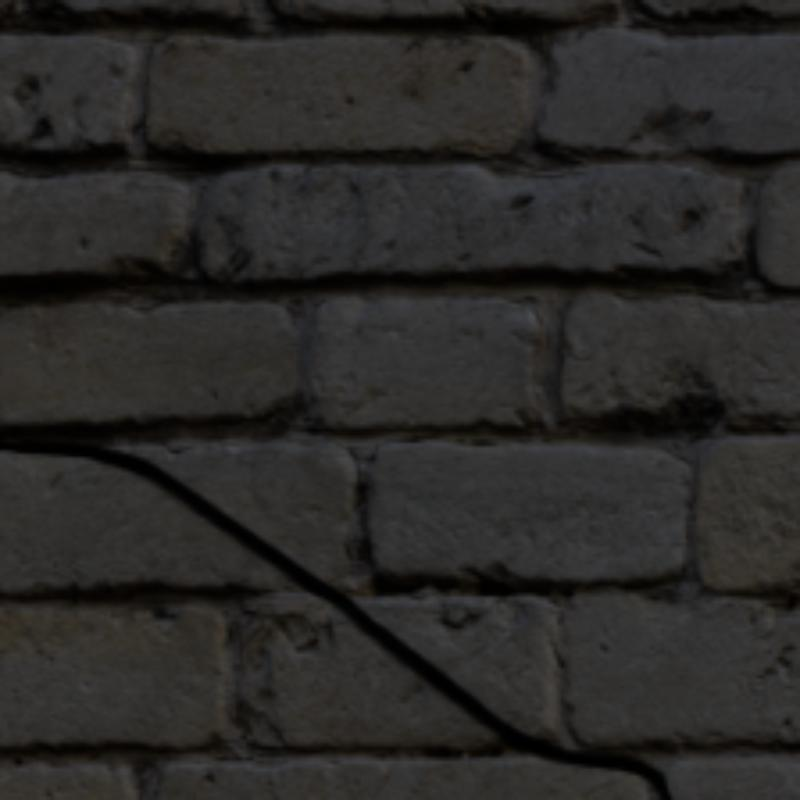crack: (0, 439, 668, 796)
